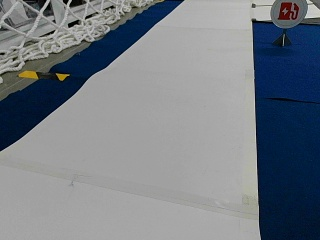battery: (270, 0, 308, 28)
